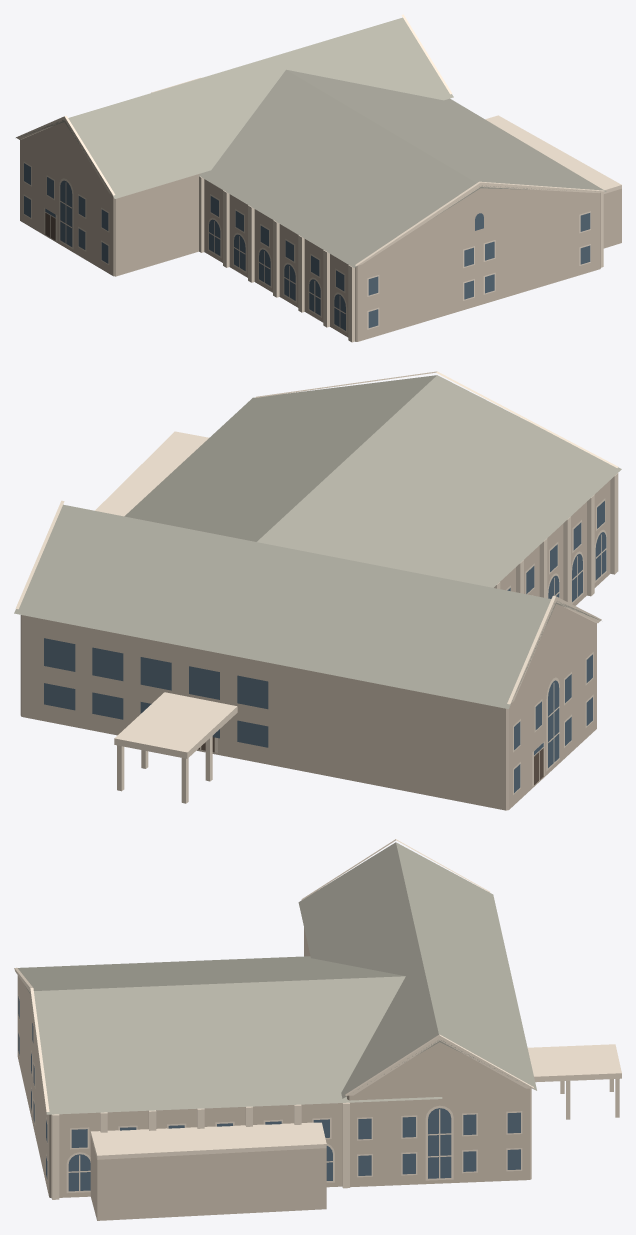
Rendered from clt-myers-park-presbyterian-outreach-center.glb.
3 views of the same model, one above another, from view 1: azimuth 30°, elevation 25°; view 2: azimuth 150°, elevation 25°; view 3: azimuth 270°, elevation 25° (orthographic). The views are drawn at different scales.
Parts seen in each view (by area): view 1: Myers Park Presbyterian Church Outreach Center; view 2: Myers Park Presbyterian Church Outreach Center; view 3: Myers Park Presbyterian Church Outreach Center.
Boxes of the visible parts, x1,y1,x2,y2 form: Myers Park Presbyterian Church Outreach Center: (16, 14, 621, 342); Myers Park Presbyterian Church Outreach Center: (14, 371, 621, 810); Myers Park Presbyterian Church Outreach Center: (14, 839, 621, 1220).
Bounding box in the file's own units: 55.22 × 16.25 × 59.98.
